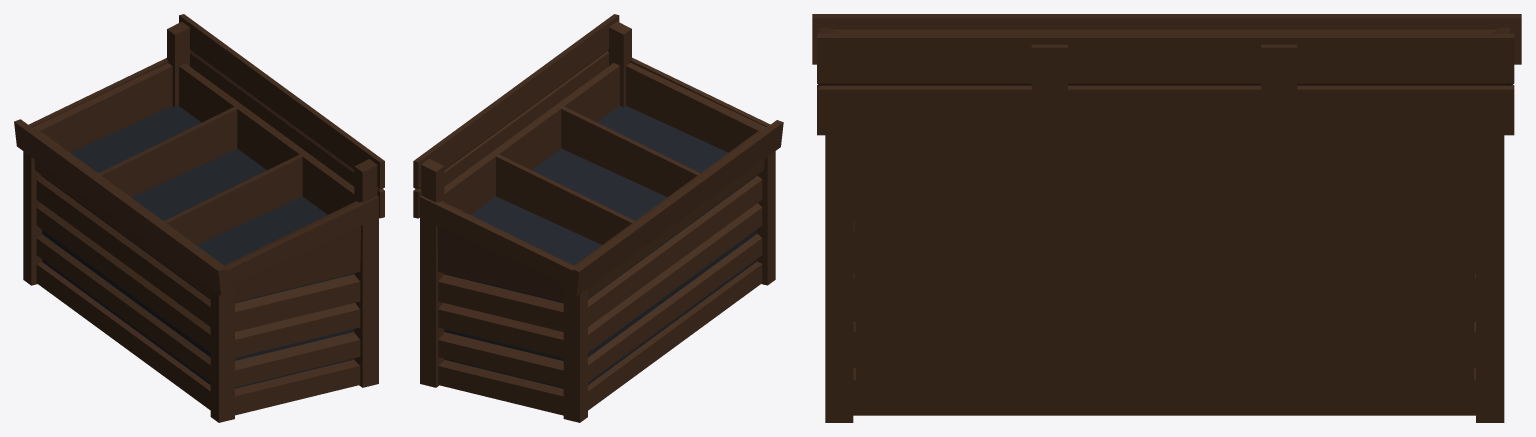
Rendered from ProductStand01.fbx.
3 renders of one model, left to right at view 1: azimuth 30°, elevation 25°; view 2: azimuth 150°, elevation 25°; view 3: azimuth 270°, elevation 25°, orthographic. The views are drawn at different scales.
Visible parts, largest first — view 1: ProductStand01; view 2: ProductStand01; view 3: ProductStand01.
Part boxes in pixels (left/top/right/bottom): ProductStand01: left=14, top=14, right=384, bottom=422; ProductStand01: left=413, top=14, right=783, bottom=422; ProductStand01: left=812, top=14, right=1521, bottom=422.
Bounding box in the file's own units: 115 × 143 × 236.
